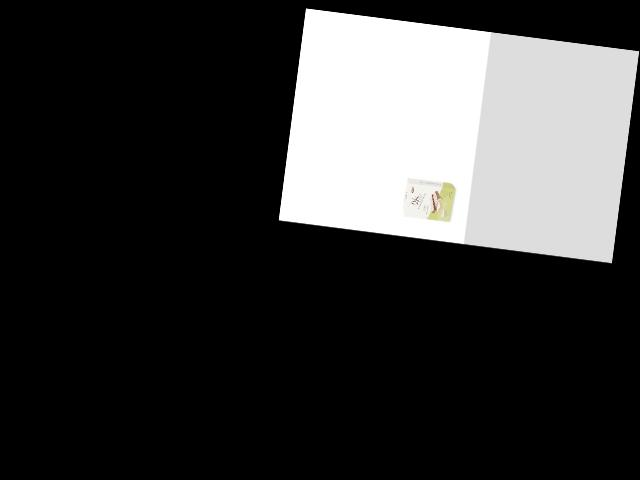chocolate: (400, 174, 459, 227)
